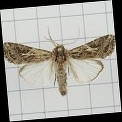Spodoptera litura: (5, 24, 117, 97)
